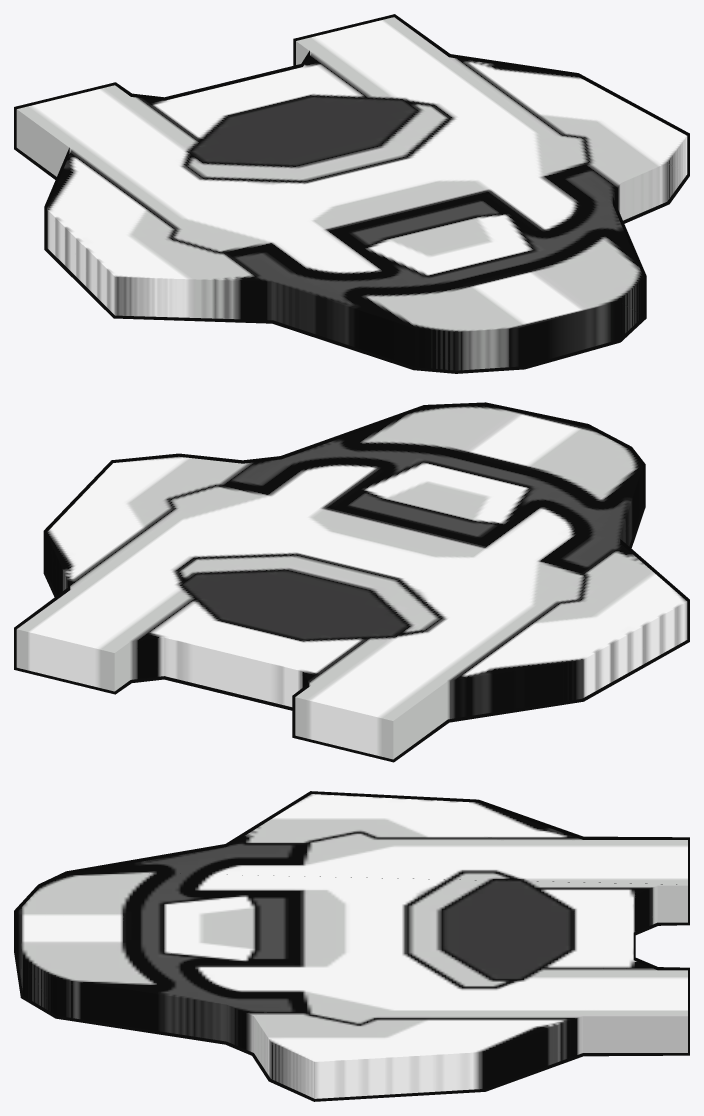
The model's file is Item_Apparel_ArmorCataphract_Things_Pawn_Humanlike_Apparel_CataphractArmor_CataphractArmor_Hulk.glb.
3 views of the same model, one above another, from view 1: azimuth 30°, elevation 25°; view 2: azimuth 150°, elevation 25°; view 3: azimuth 270°, elevation 25° (orthographic). The views are drawn at different scales.
Visible parts, largest first — view 1: Body, Outline; view 2: Body, Outline; view 3: Body, Outline.
Part boxes in pixels (x1,y1,x2,y2): Body: (16, 17, 687, 370); Outline: (14, 14, 689, 373); Body: (16, 405, 687, 759); Outline: (14, 402, 689, 762); Body: (16, 794, 687, 1098); Outline: (14, 791, 689, 1101).
Size of the model in its own units: 1.47 by 0.1063 by 1.56.
Materials: 2 (1 with a texture image).
